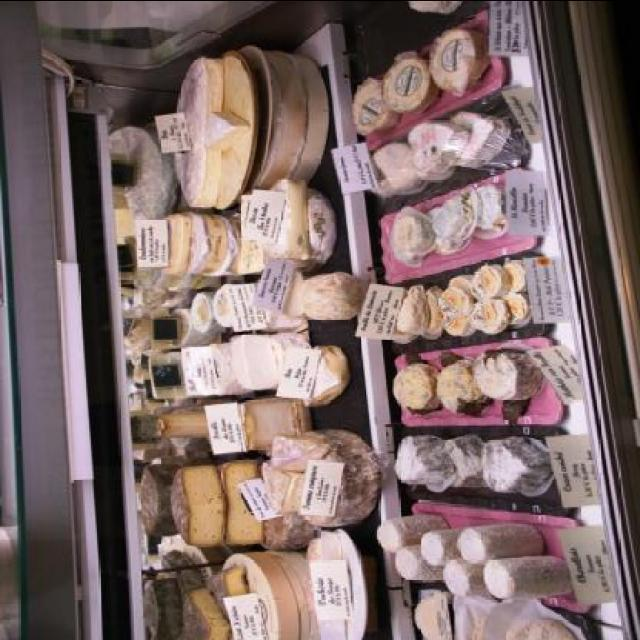Cheese: (122, 26, 580, 640)
